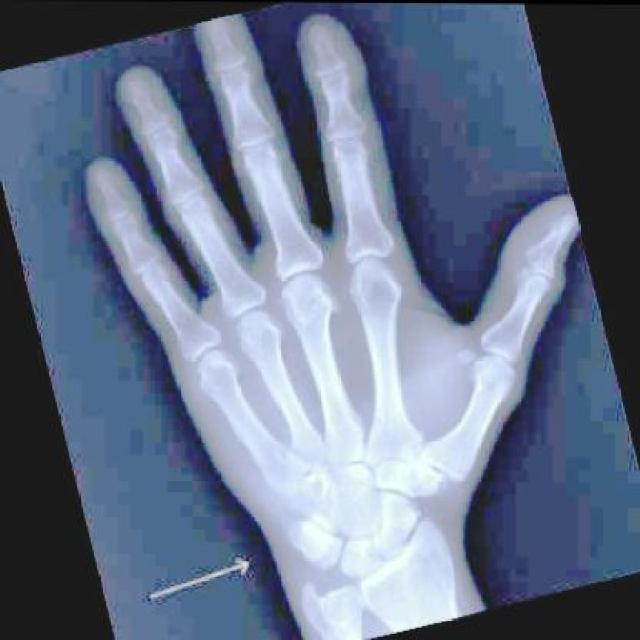Fracture: (279, 470, 333, 524)
